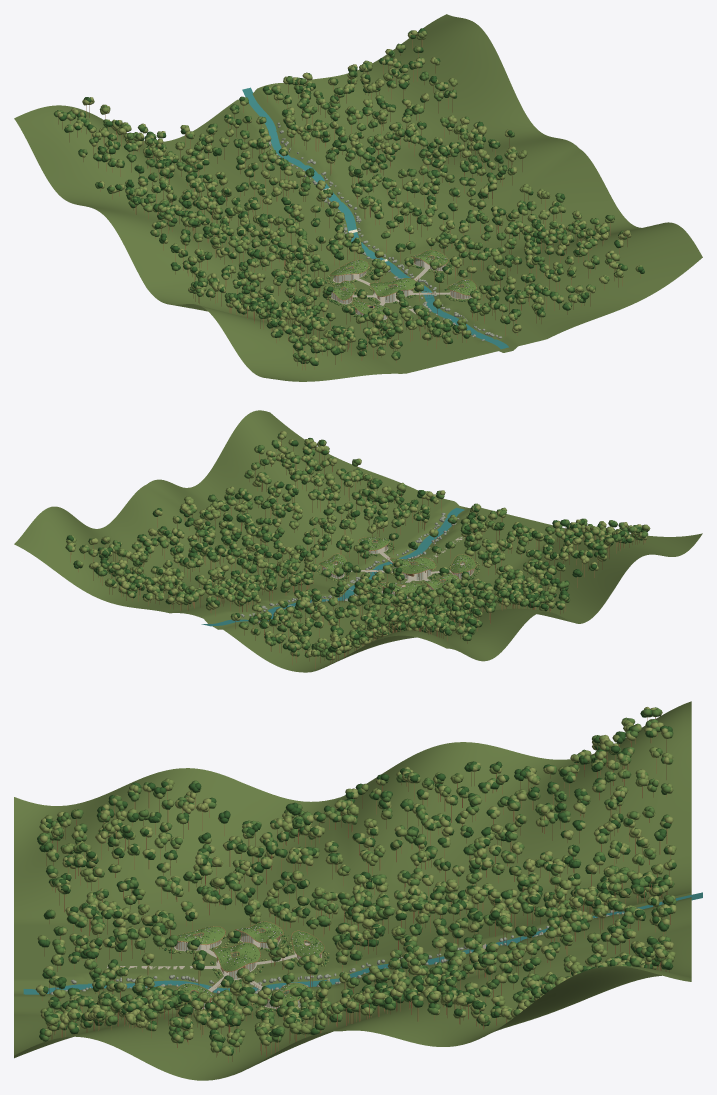
Rendered from nature-campus-layout.glb.
3 views of the same model, one above another, from view 1: azimuth 30°, elevation 25°; view 2: azimuth 150°, elevation 25°; view 3: azimuth 270°, elevation 25° (orthographic). The views are drawn at different scales.
Parts seen in each view (by area): view 1: Layered forest valley, Forest canopy.003, Forest canopy.001, Forest canopy, Forest canopy.002, Forest trunks, River below connected terraces, River boulders; view 2: Layered forest valley, Forest canopy, Forest canopy.003, Forest canopy.001, Forest canopy.002, Forest trunks, River below connected terraces, River boulders, Reception living roof; view 3: Layered forest valley, Forest canopy.003, Forest canopy.002, Forest canopy, Forest canopy.001, Forest trunks, River below connected terraces, River boulders, Reception living roof.
Part boxes in pixels (x1,y1,x2,y2): Layered forest valley: (14, 14, 702, 381); Forest canopy.003: (59, 28, 644, 365); Forest canopy.001: (57, 30, 638, 362); Forest canopy: (54, 30, 642, 361); Forest canopy.002: (54, 30, 644, 363); Forest trunks: (58, 39, 640, 369); River below connected terraces: (242, 87, 508, 349); River boulders: (268, 122, 502, 340); Layered forest valley: (14, 410, 702, 672); Forest canopy: (66, 433, 650, 657); Forest canopy.003: (66, 433, 647, 652); Forest canopy.001: (65, 431, 647, 660); Forest canopy.002: (65, 434, 648, 660); Forest trunks: (70, 440, 645, 668); River below connected terraces: (201, 507, 464, 626); River boulders: (240, 512, 459, 623); Reception living roof: (390, 557, 435, 573); Layered forest valley: (14, 701, 691, 1080); Forest canopy.003: (37, 709, 676, 1055); Forest canopy.002: (39, 707, 676, 1049); Forest canopy: (37, 709, 676, 1055); Forest canopy.001: (35, 707, 676, 1053); Forest trunks: (42, 717, 670, 1062); River below connected terraces: (23, 892, 702, 994); River boulders: (50, 910, 623, 994); Reception living roof: (213, 942, 260, 971).
Bounding box in the file's own units: 347 × 89.8 × 362.
